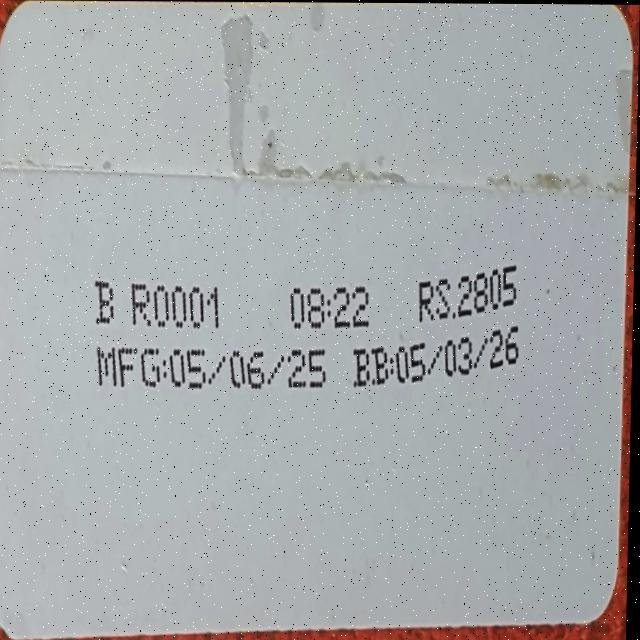BB: (350, 335, 535, 387)
Batch: (91, 263, 227, 337)
MFG: (93, 341, 333, 410)
RS: (408, 267, 531, 325)
TimeStamp: (282, 277, 379, 336)
